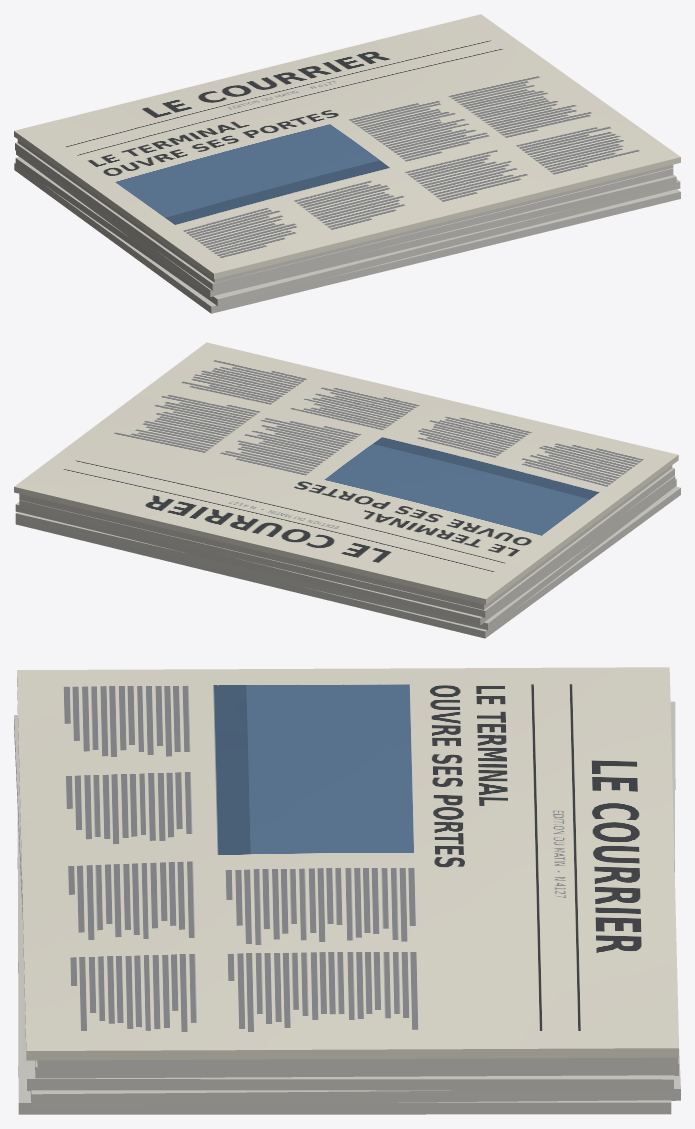
Rendered from journal_plie.glb.
The picture shows the model from 3 angles, top to bottom: view 1: azimuth 30°, elevation 25°; view 2: azimuth 150°, elevation 25°; view 3: azimuth 270°, elevation 25°; orthographic projection. The views are drawn at different scales.
Visible parts, largest first — view 1: JPL_Une, JPL_Papier_Journal; view 2: JPL_Une, JPL_Papier_Journal; view 3: JPL_Une, JPL_Papier_Journal.
Part boxes in pixels (bbox=[...]): JPL_Une: bbox=[14, 14, 680, 279]; JPL_Papier_Journal: bbox=[14, 139, 680, 313]; JPL_Une: bbox=[14, 342, 678, 604]; JPL_Papier_Journal: bbox=[15, 465, 680, 638]; JPL_Une: bbox=[17, 667, 678, 1060]; JPL_Papier_Journal: bbox=[14, 701, 680, 1114].
Bounding box in the file's own units: 0.2928 × 0.0263 × 0.2146.
2 materials, 1 textured.
